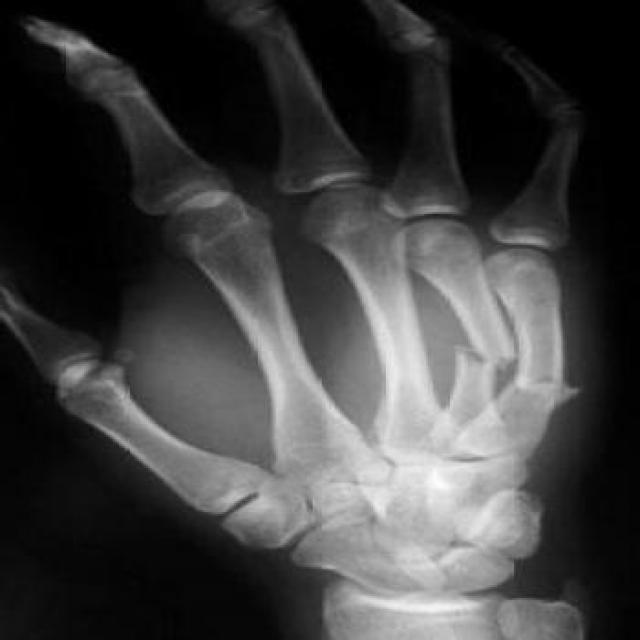fracture: (446, 330, 514, 378), (520, 356, 592, 401)
